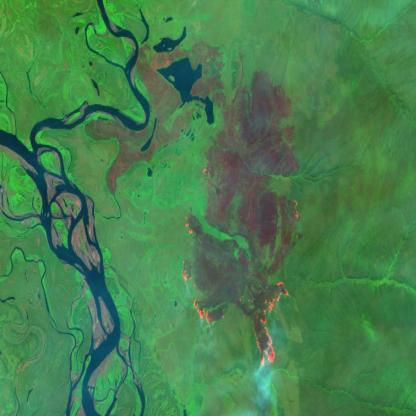fire: (179, 266, 293, 371)
